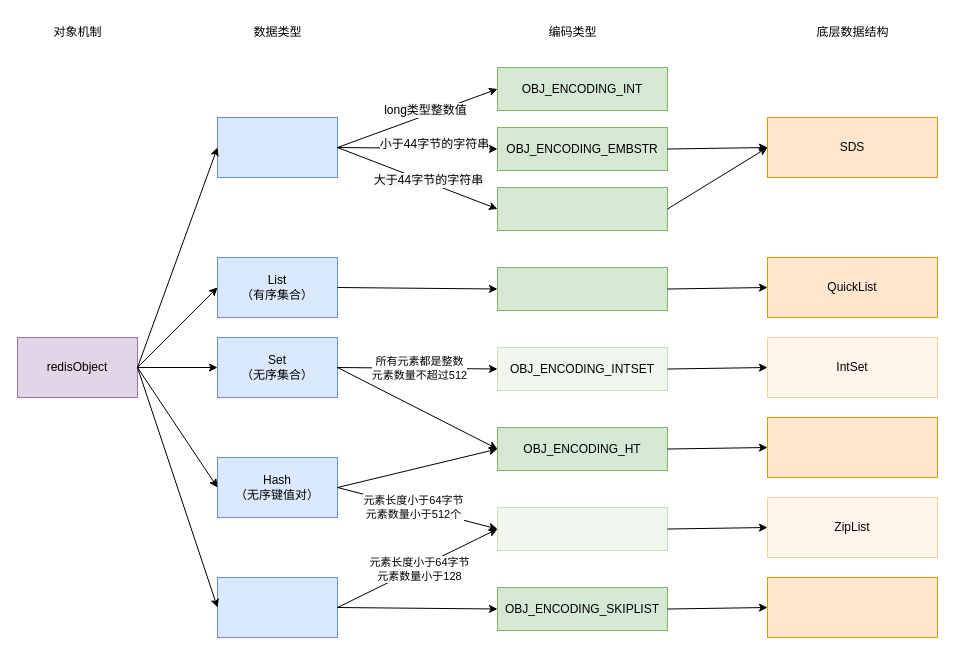
This 955x655 diagram has some shape labels left out. The centre of each missing label's shape, as x and y in pixels:
HashTable （Dict）: the point at 852,447
OBJ_ENCODING_QUICKLIST: the point at 582,288
OBJ_ENCODING_RAW: the point at 582,208
OBJ_ENCODING_ZIPLIST: the point at 582,528
SortedSet （带记分的集合）: the point at 277,607
String （字符串、整数或浮点数）: the point at 277,147
ZSkipList: the point at 852,607
